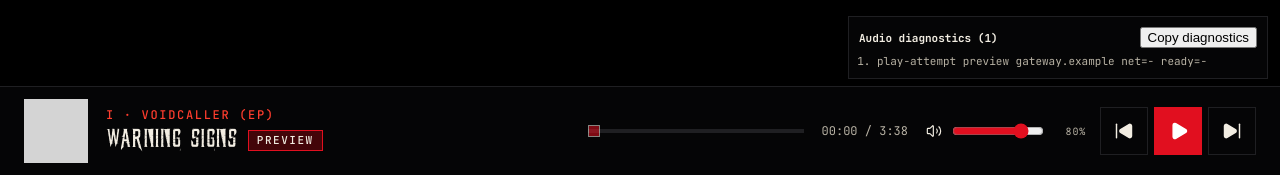
Test: sticky player tap-to-play and audio diagnostics › copies sanitized diagnostics with navigator.clipboard when enabled
Expected: the element "Audio diagnostics" is shown, [848,16,1268,79]
Click the button "Copy diagnostics" at [1198, 38], box [1140,27,1257,48]
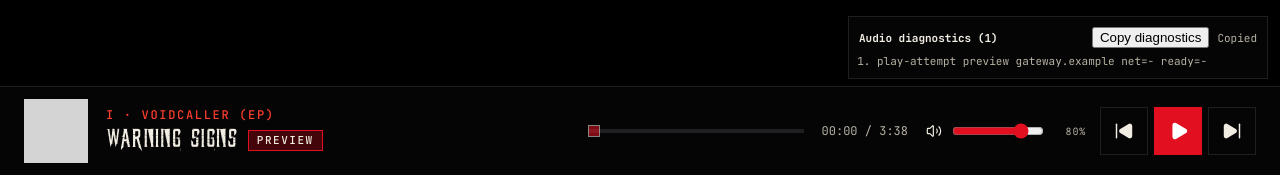
Now the text "Copied" is shown, box [1217,30,1257,44]
